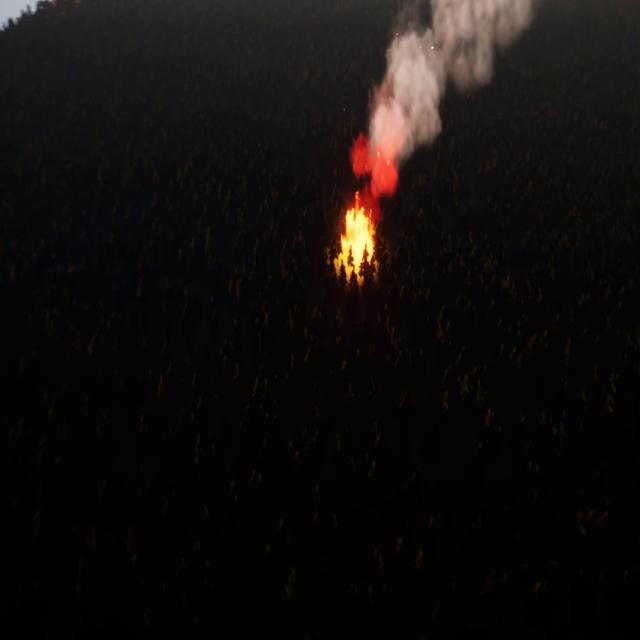fire: (340, 204, 376, 264)
smoke: (349, 0, 532, 199)
